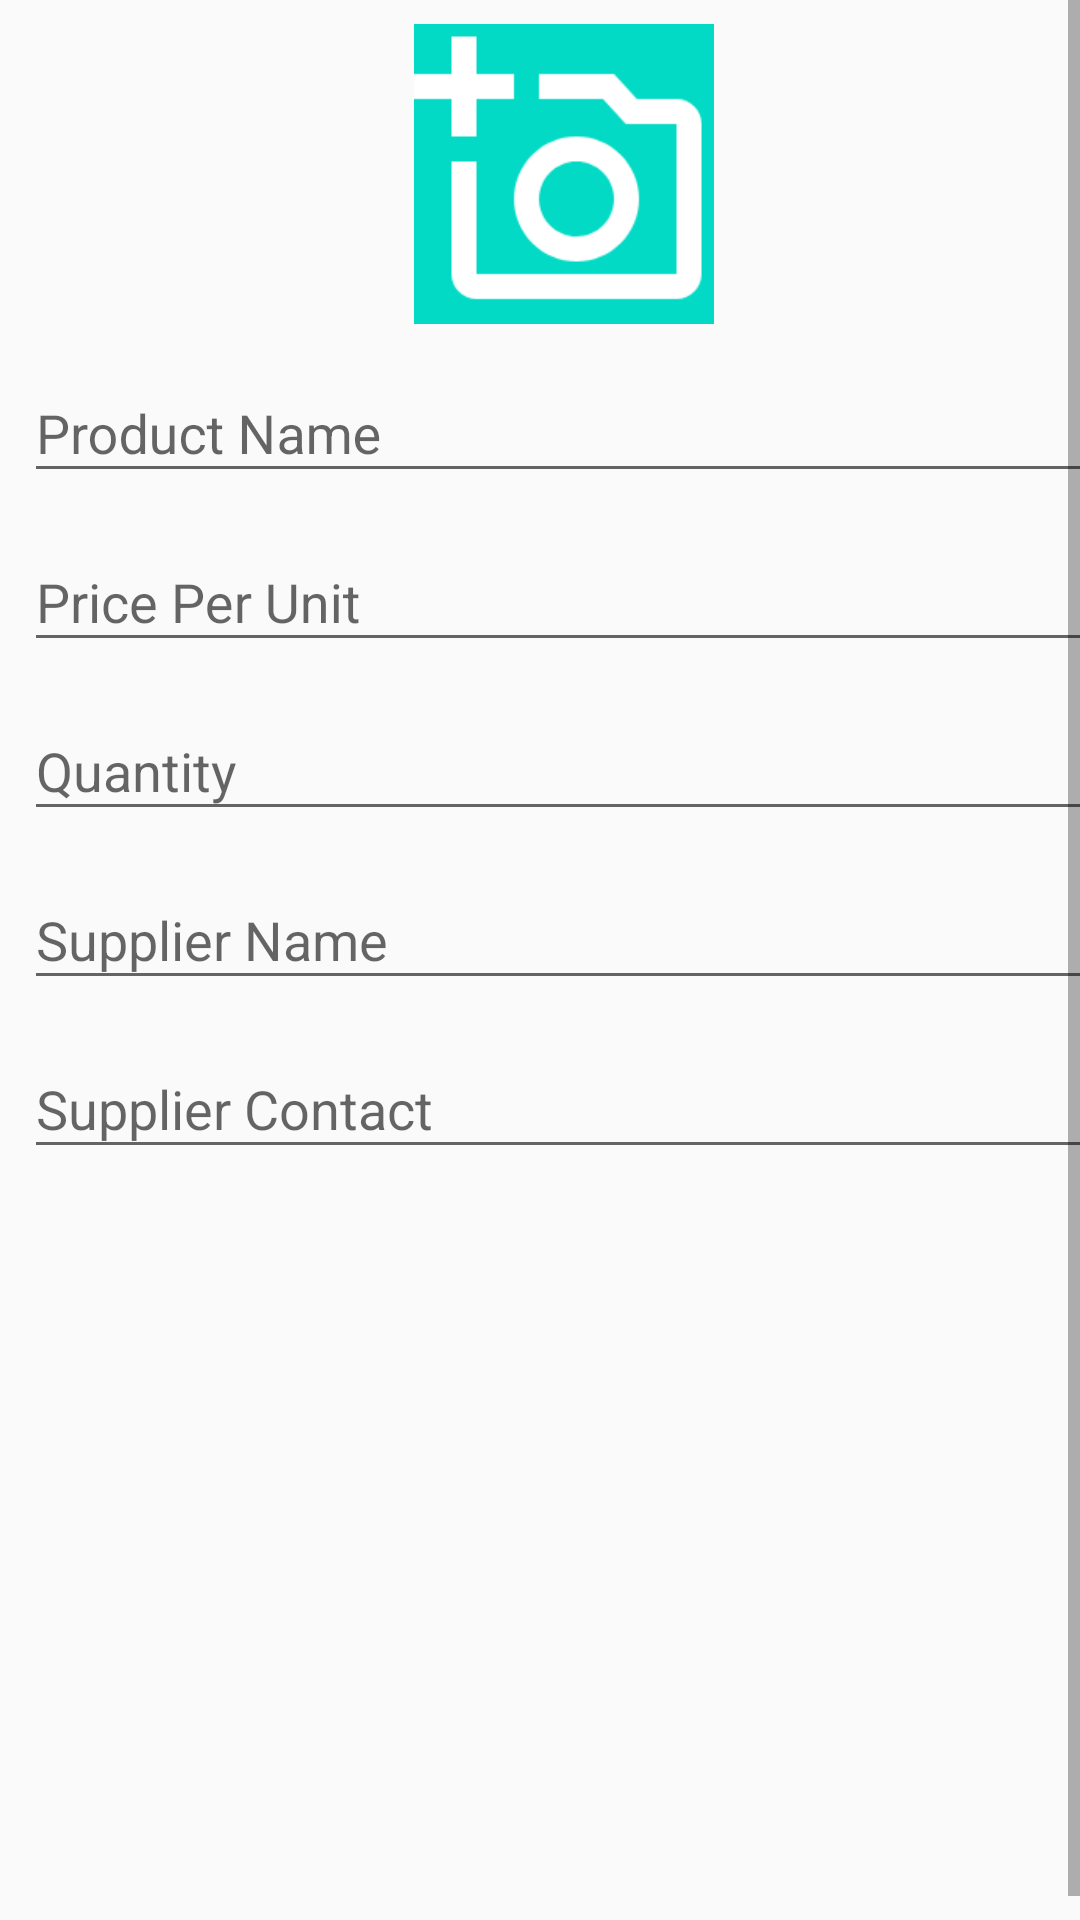

Where icons sit on this 1080w x 1920h app screen, as (x1, y1, x2, y2):
add photo: (414, 24, 714, 324)
